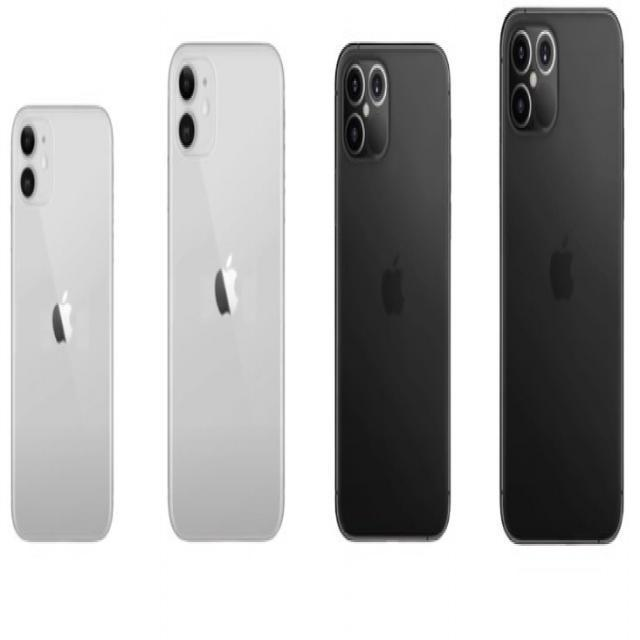phone: (499, 2, 627, 552), (166, 33, 286, 546), (333, 37, 454, 544), (8, 103, 116, 548)
